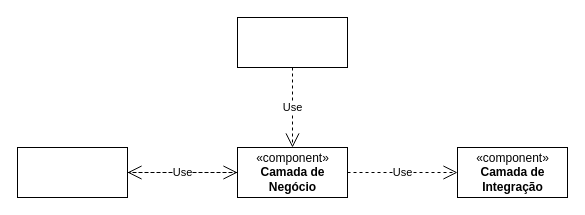
Some shapes in this 585 by 215 pixel diagram are drawn without their labels. The box of each missing label's shape, as (x1, y1, x2, y2) in pixels:
«component» Camada de Dados: (16, 146, 128, 198)
«component» Camada Visual: (236, 16, 348, 68)
